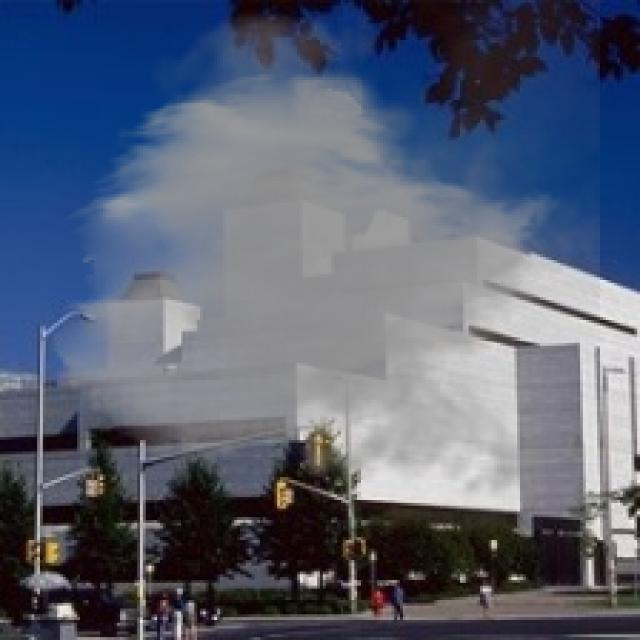Smoke: (48, 0, 601, 515)
